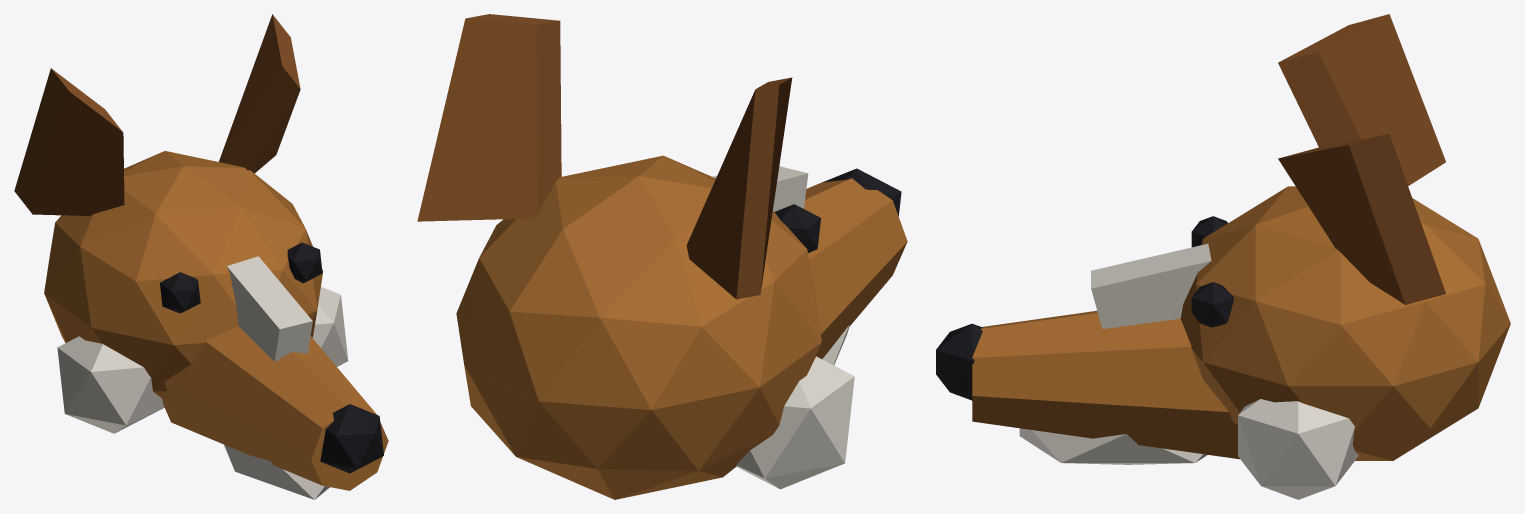
File: Collie_Head.glb
3 views of the same model, side by side, from view 1: azimuth 30°, elevation 25°; view 2: azimuth 150°, elevation 25°; view 3: azimuth 270°, elevation 25° (orthographic). The views are drawn at different scales.
Visible parts, largest first — view 1: Collie_Head; view 2: Collie_Head; view 3: Collie_Head.
Part boxes in pixels (x1,y1,x2,y2): Collie_Head: [14, 14, 388, 499]; Collie_Head: [417, 14, 907, 499]; Collie_Head: [936, 14, 1510, 499].
Bounding box in the file's own units: 0.2494 × 0.3043 × 0.4055.
